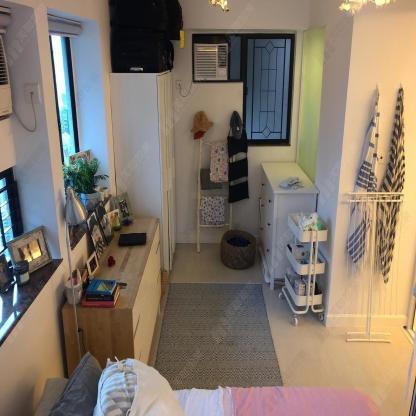AC: (194, 43, 228, 81)
Bed: (33, 352, 381, 416)
Closet: (108, 69, 177, 276)
